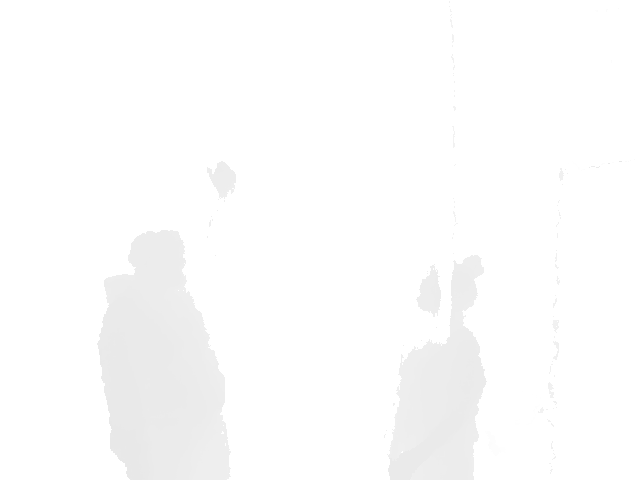head: (417, 264, 477, 323), (127, 229, 187, 281)
person: (97, 229, 232, 480), (387, 255, 489, 480)
